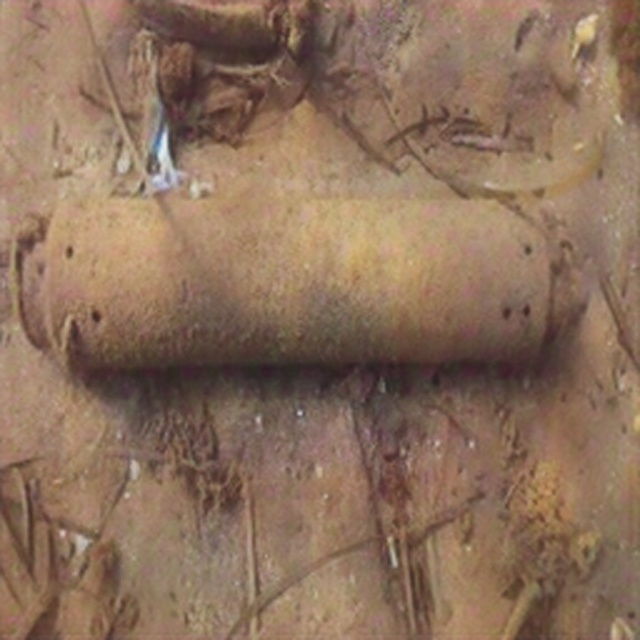mine: (11, 184, 587, 361)
